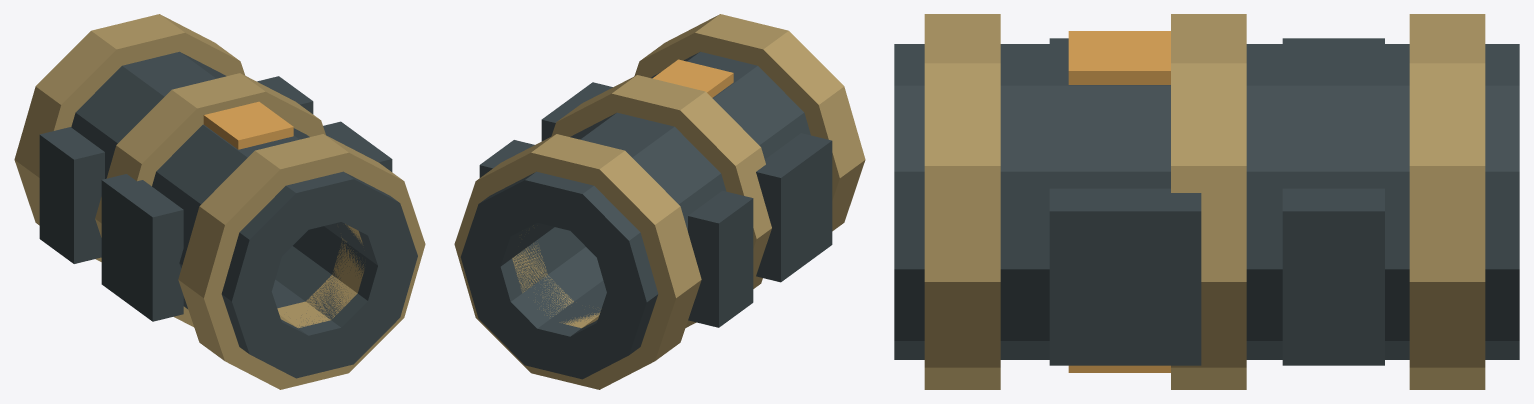
The model's file is Socket_738.fbx.
The picture shows the model from 3 angles, left to right: view 1: azimuth 30°, elevation 25°; view 2: azimuth 150°, elevation 25°; view 3: azimuth 270°, elevation 25°; orthographic projection. The views are drawn at different scales.
Visible parts, largest first — view 1: Socket_738; view 2: Socket_738; view 3: Socket_738.
Boxes of the visible parts, left/top/right/bottom form: Socket_738: left=14, top=14, right=425, bottom=389; Socket_738: left=454, top=14, right=865, bottom=389; Socket_738: left=894, top=14, right=1519, bottom=389.
Bounding box in the file's own units: 0.108 × 0.0951 × 0.165.
